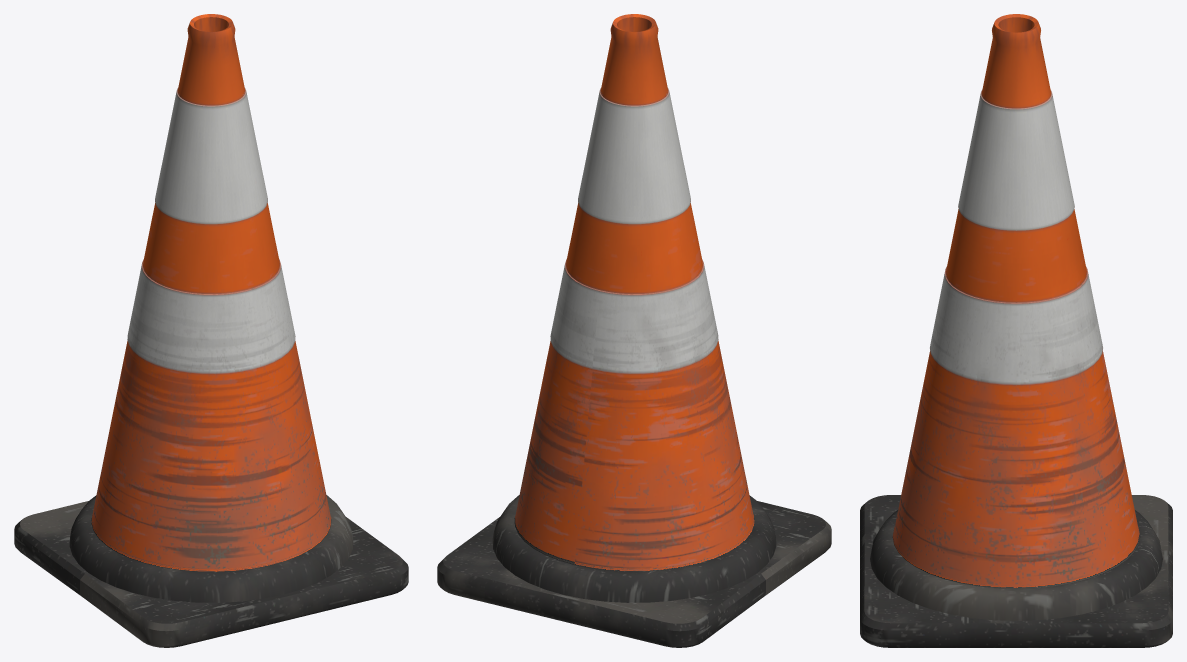
File: traffic-cone-v1-lod0.glb
The picture shows the model from 3 angles, left to right: view 1: azimuth 30°, elevation 25°; view 2: azimuth 150°, elevation 25°; view 3: azimuth 270°, elevation 25°; orthographic projection. The views are drawn at different scales.
Visible parts, largest first — view 1: traffic-cone; view 2: traffic-cone; view 3: traffic-cone.
Boxes of the visible parts, left/top/right/bottom form: traffic-cone: left=14, top=14, right=408, bottom=647; traffic-cone: left=437, top=14, right=831, bottom=647; traffic-cone: left=860, top=14, right=1172, bottom=647.
Bounding box in the file's own units: 0.38 × 0.75 × 0.38.
1 material, 1 textured.
